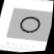no answer: (15, 12, 45, 38)
